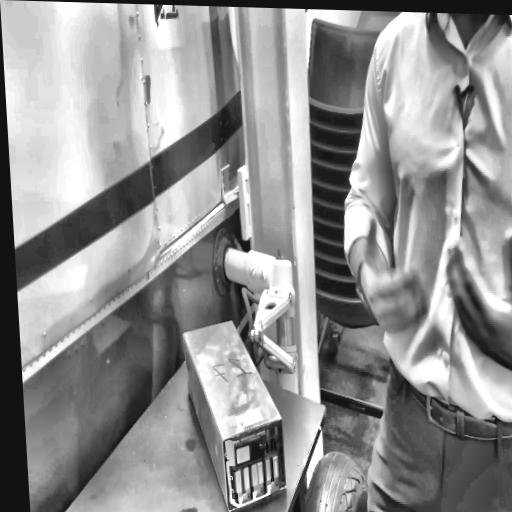battery_module: (182, 320, 288, 512)
